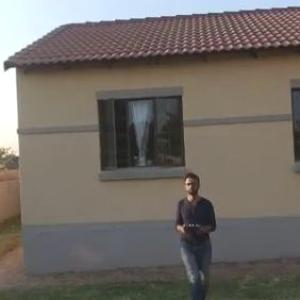follow: (165, 173, 220, 299)
